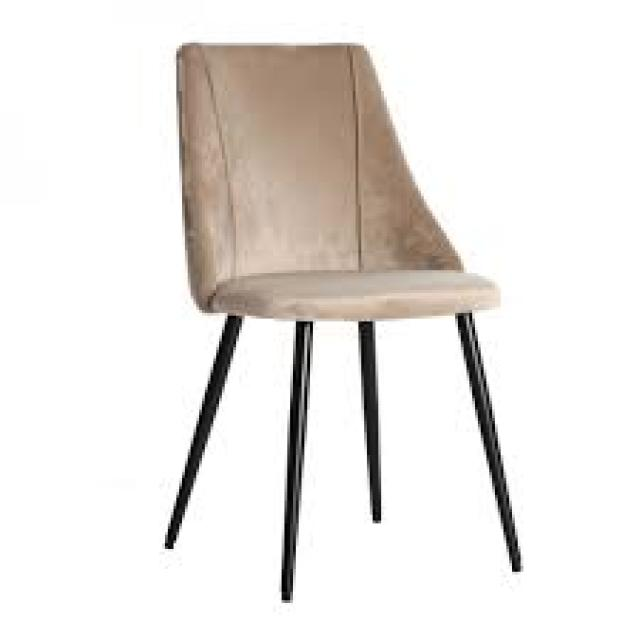bottle: (165, 39, 526, 602)
